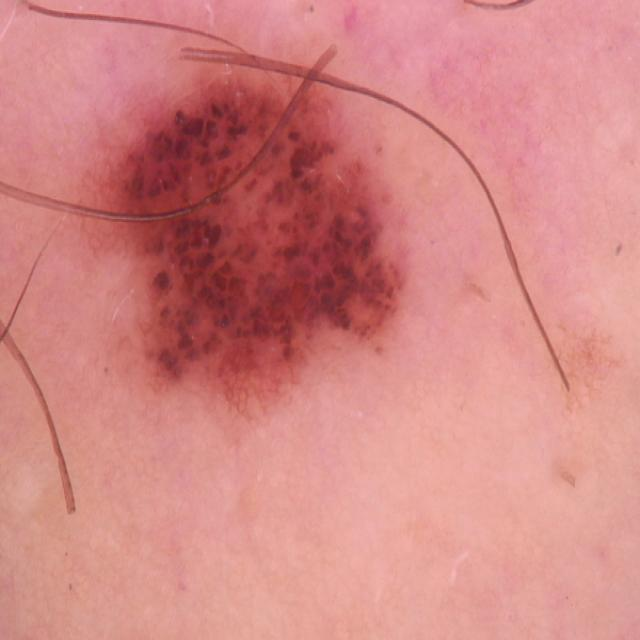NV: (75, 54, 409, 422)
